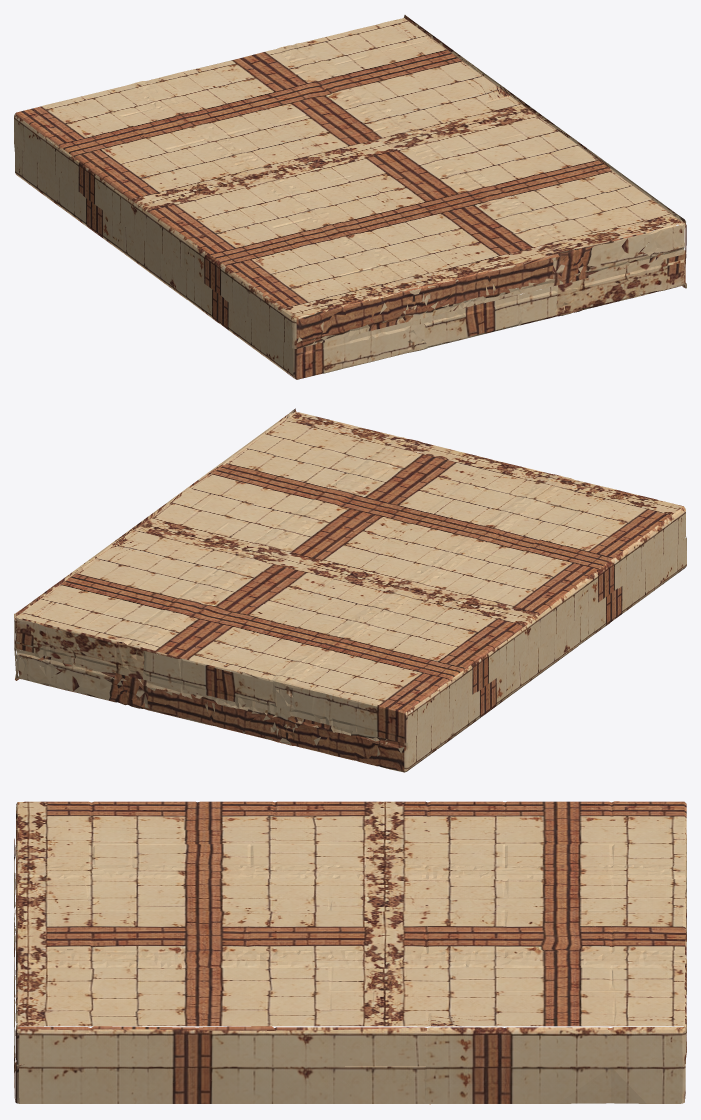
Rendered from FlatCeiling.glb.
The picture shows the model from 3 angles, top to bottom: view 1: azimuth 30°, elevation 25°; view 2: azimuth 150°, elevation 25°; view 3: azimuth 270°, elevation 25°; orthographic projection. The views are drawn at different scales.
Visible parts, largest first — view 1: geometry_0.003; view 2: geometry_0.003; view 3: geometry_0.003.
Boxes of the visible parts, x1,y1,x2,y2 form: geometry_0.003: (14,15,686,379); geometry_0.003: (14,408,686,772); geometry_0.003: (14,801,686,1104).
Size of the model in its own units: 1.61 by 0.2676 by 2.
1 material, 1 textured.
